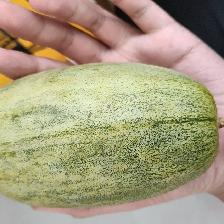gua: (4, 79, 204, 182)
